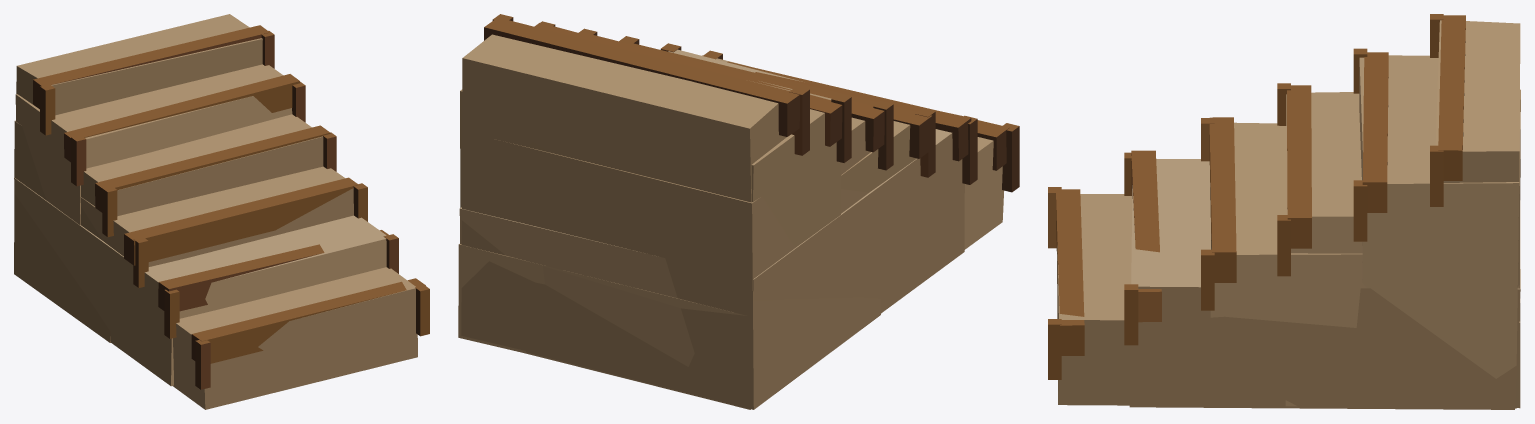
File: mtn_steps.glb
3 views of the same model, side by side, from view 1: azimuth 30°, elevation 25°; view 2: azimuth 150°, elevation 25°; view 3: azimuth 270°, elevation 25° (orthographic). The views are drawn at different scales.
Parts seen in each view (by area): view 1: mtn_steps; view 2: mtn_steps; view 3: mtn_steps.
Part boxes in pixels (left/top/right/bottom): mtn_steps: left=14, top=14, right=429, bottom=409; mtn_steps: left=458, top=14, right=1019, bottom=409; mtn_steps: left=1048, top=14, right=1520, bottom=409.
Bounding box in the file's own units: 2.15 × 1.89 × 3.09.
